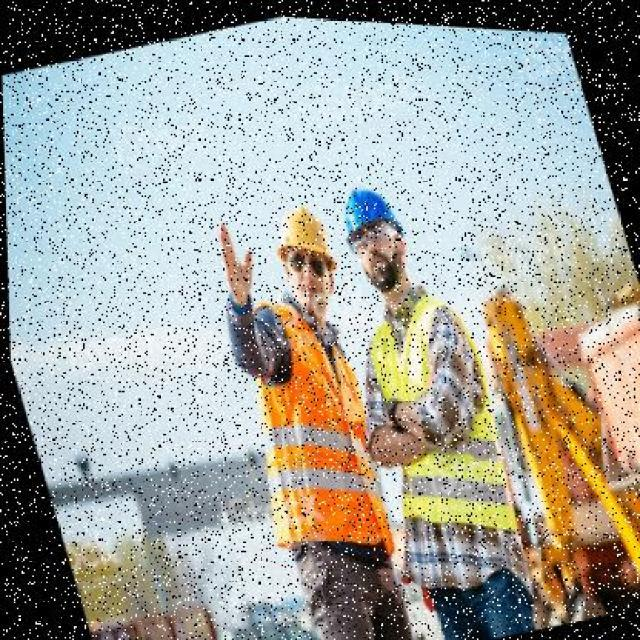helmet: (331, 169, 403, 239), (270, 194, 330, 268)
vest: (231, 289, 399, 563), (357, 292, 519, 542)
